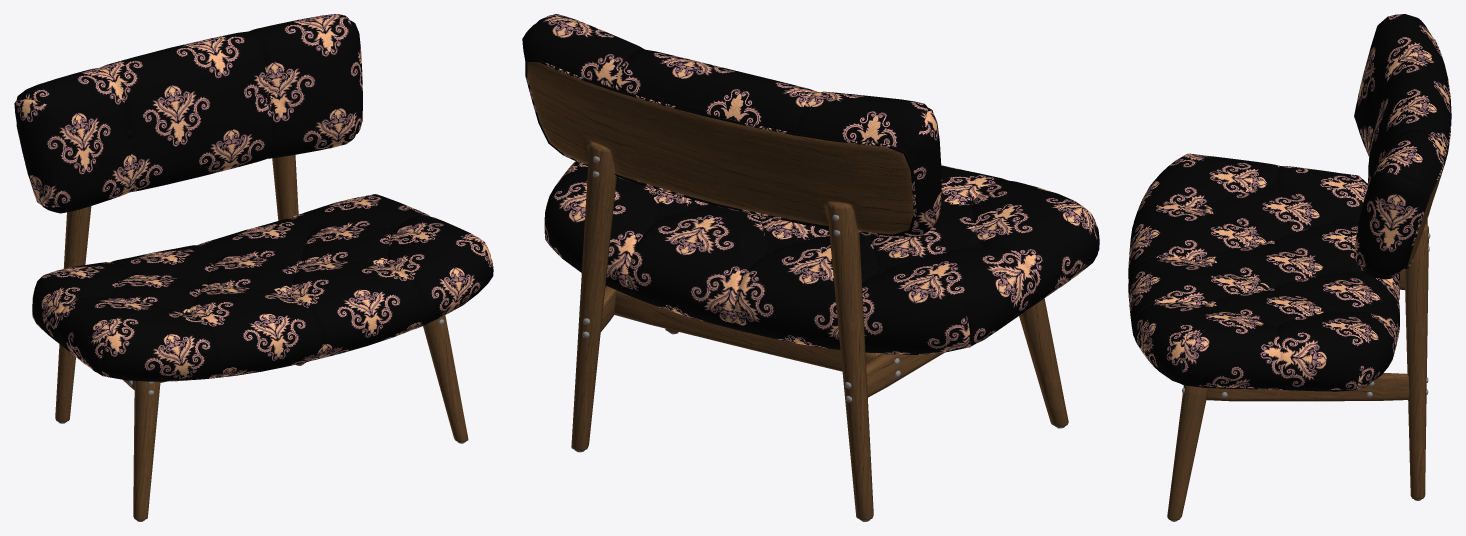
Rendered from armchair.glb.
3 renders of one model, left to right at view 1: azimuth 30°, elevation 25°; view 2: azimuth 150°, elevation 25°; view 3: azimuth 270°, elevation 25°, orthographic. The views are drawn at different scales.
Parts seen in each view (by area): view 1: oval-tufted-chair_seat-fabric, oval-tufted-chair_back-fabric, oval-tufted-chair_legs-frame; view 2: oval-tufted-chair_seat-fabric, oval-tufted-chair_back-panel, oval-tufted-chair_legs-frame, oval-tufted-chair_back-fabric, oval-tufted-chair_back-welt; view 3: oval-tufted-chair_seat-fabric, oval-tufted-chair_back-fabric, oval-tufted-chair_legs-frame, oval-tufted-chair_back-welt, oval-tufted-chair_back-panel.
Boxes of the visible parts, box(x1,y1,x2,y2) form: oval-tufted-chair_seat-fabric: box(32, 194, 493, 380); oval-tufted-chair_back-fabric: box(14, 14, 362, 213); oval-tufted-chair_legs-frame: box(55, 154, 468, 520); oval-tufted-chair_seat-fabric: box(544, 161, 1099, 354); oval-tufted-chair_back-panel: box(527, 62, 913, 234); oval-tufted-chair_legs-frame: box(571, 142, 1068, 520); oval-tufted-chair_back-fabric: box(522, 14, 941, 237); oval-tufted-chair_back-welt: box(525, 58, 916, 236); oval-tufted-chair_seat-fabric: box(1128, 153, 1399, 390); oval-tufted-chair_back-fabric: box(1354, 14, 1450, 279); oval-tufted-chair_legs-frame: box(1167, 219, 1428, 520); oval-tufted-chair_back-welt: box(1404, 39, 1451, 268); oval-tufted-chair_back-panel: box(1407, 170, 1442, 266).
Size of the model in its own units: 0.8286 by 0.6873 by 0.5718.
Materials: 4 (3 with a texture image).
